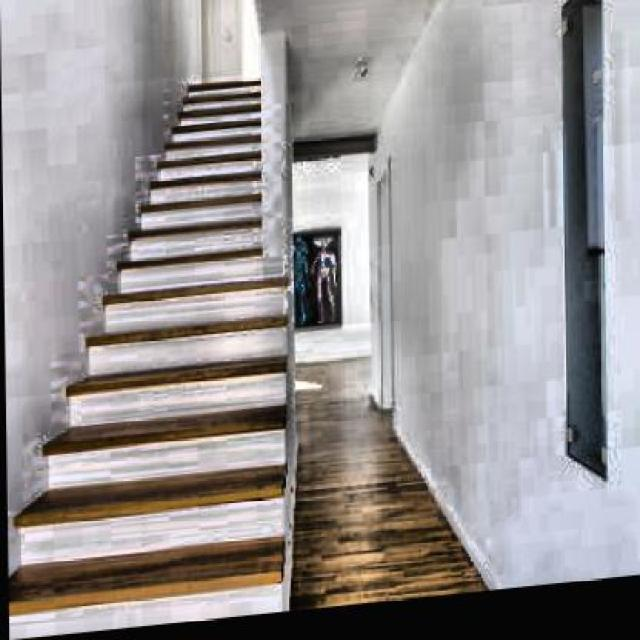stair: (60, 77, 282, 606)
